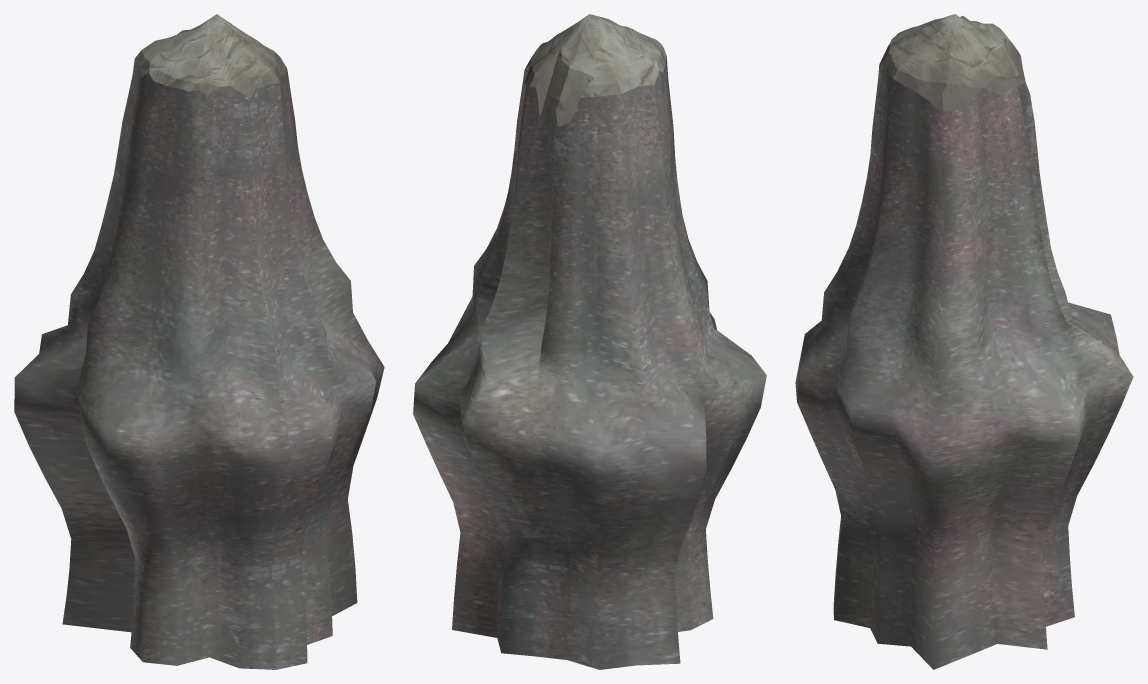
3 views of the same model, side by side, from view 1: azimuth 30°, elevation 25°; view 2: azimuth 150°, elevation 25°; view 3: azimuth 270°, elevation 25° (orthographic). The views are drawn at different scales.
Parts seen in each view (by area): view 1: SM_GF_Ash_Tree_01_stump_LOD0; view 2: SM_GF_Ash_Tree_01_stump_LOD0; view 3: SM_GF_Ash_Tree_01_stump_LOD0.
Boxes of the visible parts, x1,y1,x2,y2 form: SM_GF_Ash_Tree_01_stump_LOD0: (14, 14, 384, 669); SM_GF_Ash_Tree_01_stump_LOD0: (413, 14, 766, 669); SM_GF_Ash_Tree_01_stump_LOD0: (795, 14, 1133, 669).
Size of the model in its own units: 1.32 by 2.45 by 1.26.
Materials: 1 (1 with a texture image).
